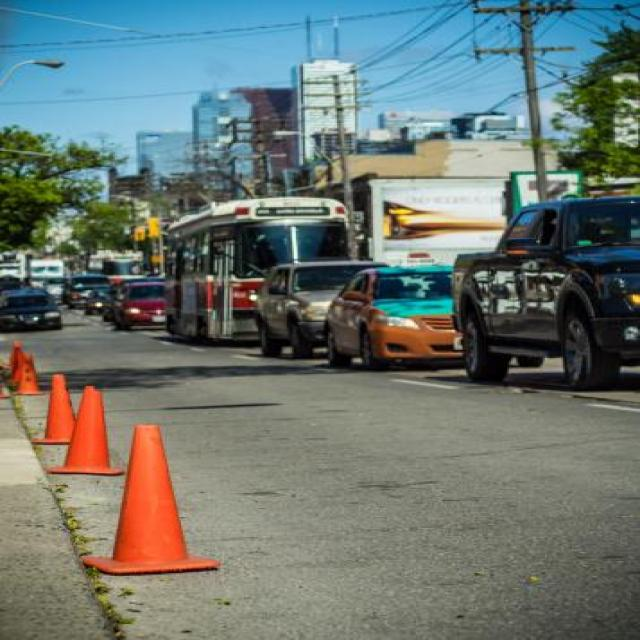Cone: (79, 422, 224, 577), (50, 385, 124, 477), (29, 374, 77, 444), (14, 354, 47, 396)
